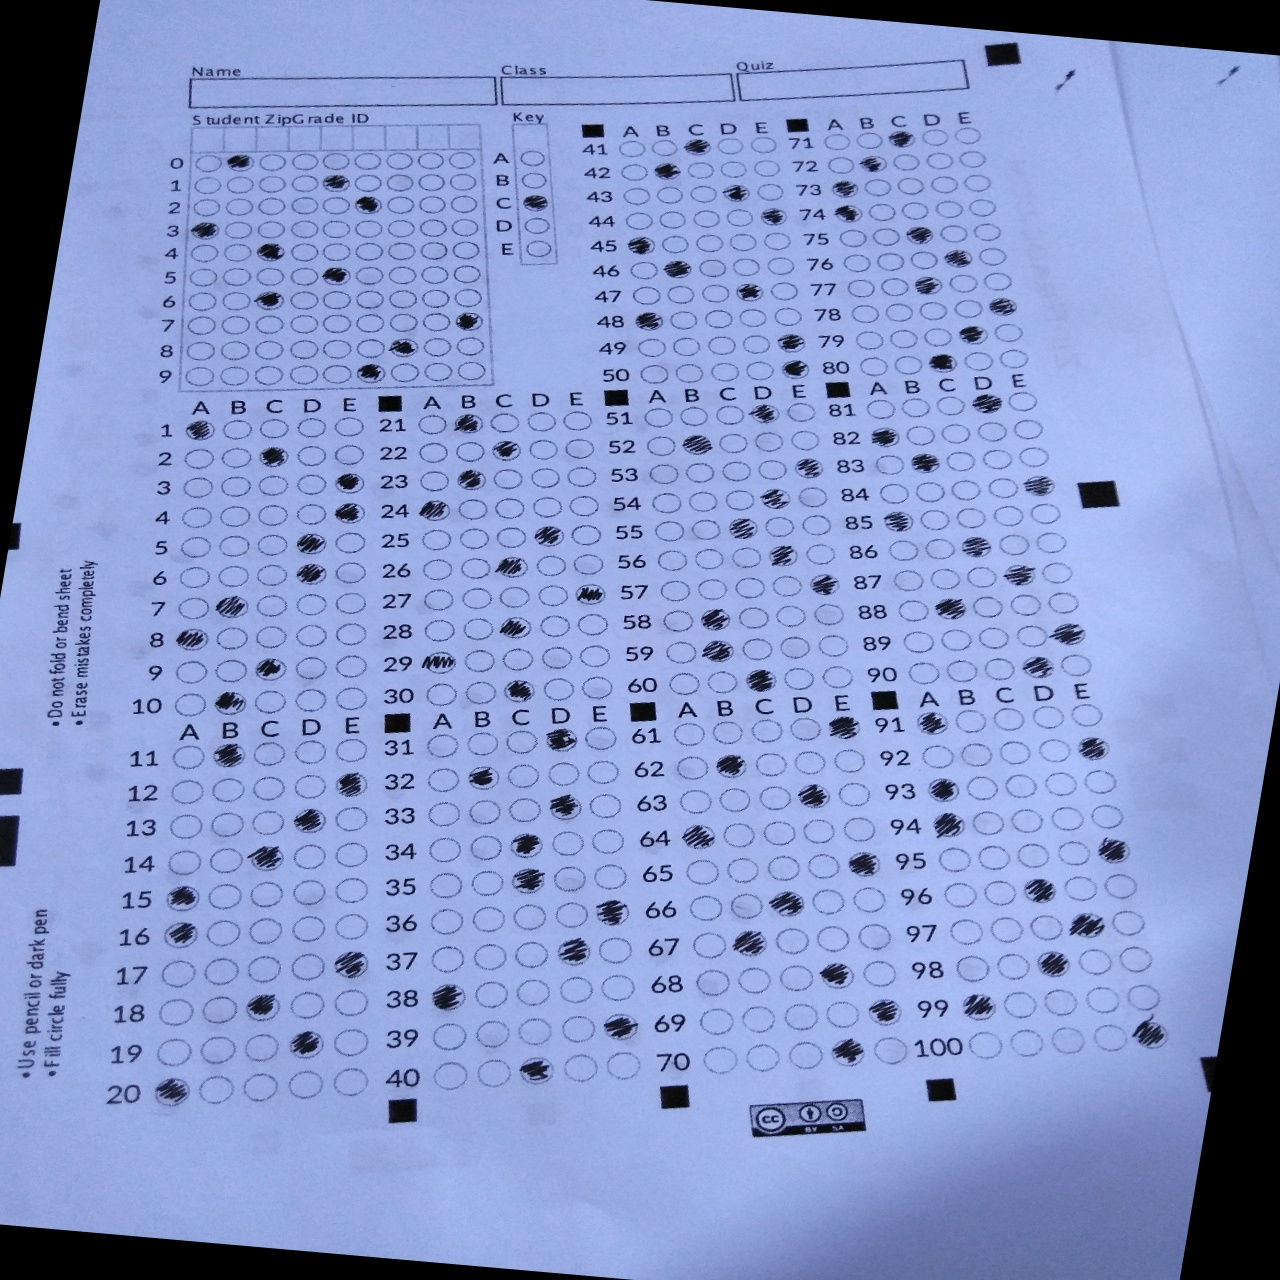not-c: (692, 1003, 740, 1039), (1123, 979, 1171, 1014), (1000, 1024, 1048, 1060), (692, 1042, 740, 1077), (736, 1041, 784, 1076), (821, 995, 867, 1030), (959, 1029, 1006, 1064), (501, 794, 549, 828), (501, 761, 549, 795), (866, 1035, 914, 1069), (1111, 941, 1159, 975), (733, 1001, 781, 1035), (775, 999, 823, 1033), (999, 988, 1047, 1022), (1084, 1021, 1132, 1055), (781, 1039, 828, 1073), (546, 862, 593, 896), (510, 938, 557, 972), (327, 1065, 374, 1099), (284, 949, 331, 983), (326, 1024, 373, 1058), (601, 1048, 648, 1082), (556, 1049, 602, 1083), (556, 1012, 602, 1046), (241, 915, 288, 949), (156, 956, 203, 990), (687, 967, 734, 1001), (951, 952, 998, 986), (1080, 983, 1126, 1017), (1034, 985, 1081, 1019), (1044, 1024, 1091, 1058), (774, 960, 821, 994), (799, 851, 847, 884), (468, 903, 513, 937), (467, 941, 512, 975), (203, 880, 248, 914), (770, 922, 816, 956), (859, 956, 905, 990), (462, 867, 509, 900), (463, 831, 510, 864), (468, 978, 515, 1010), (427, 1019, 474, 1051), (424, 942, 471, 975), (285, 914, 332, 947), (329, 987, 376, 1020), (1073, 947, 1119, 980), (805, 885, 852, 918), (853, 920, 900, 953), (990, 951, 1037, 983), (1064, 699, 1111, 731), (719, 852, 763, 886), (331, 874, 376, 907), (587, 824, 633, 857), (510, 976, 556, 1009), (470, 1017, 516, 1050), (428, 1058, 474, 1091), (199, 992, 245, 1024), (239, 1033, 285, 1065), (195, 1074, 240, 1107), (282, 1069, 328, 1102), (281, 988, 327, 1021), (595, 935, 641, 968), (512, 1015, 558, 1048), (200, 917, 246, 949), (756, 816, 802, 849), (809, 922, 855, 955), (797, 813, 843, 846), (846, 883, 892, 915), (588, 860, 635, 892), (544, 828, 591, 859), (243, 953, 290, 985), (154, 994, 200, 1026), (238, 1073, 285, 1104), (285, 877, 332, 908), (241, 879, 288, 911), (760, 851, 806, 883), (1107, 907, 1153, 939), (1051, 836, 1098, 867), (942, 917, 989, 948), (424, 906, 469, 939), (508, 900, 552, 933), (583, 791, 628, 823), (549, 898, 594, 930), (470, 1057, 516, 1089), (197, 954, 243, 986), (150, 1036, 196, 1068), (196, 1034, 241, 1065), (326, 911, 372, 942), (598, 973, 644, 1005), (552, 973, 598, 1005), (715, 818, 761, 850), (682, 892, 728, 924), (676, 857, 722, 888), (975, 876, 1021, 907), (721, 891, 767, 922), (1058, 872, 1105, 903), (685, 930, 731, 960), (1007, 840, 1054, 871), (1022, 913, 1069, 944), (983, 914, 1030, 945), (972, 844, 1019, 874), (931, 878, 978, 908), (931, 845, 978, 876), (837, 812, 881, 844), (731, 965, 776, 996), (1098, 872, 1144, 903), (689, 967, 735, 998), (1006, 803, 1049, 833), (993, 735, 1036, 765), (1039, 768, 1082, 798), (653, 606, 696, 636), (422, 731, 467, 761), (331, 805, 375, 835), (583, 726, 627, 755), (461, 729, 505, 758), (830, 745, 872, 776), (999, 769, 1041, 799), (1080, 765, 1122, 796), (1087, 801, 1129, 831), (675, 787, 717, 817), (815, 632, 857, 662), (819, 661, 862, 692), (935, 624, 978, 654), (898, 625, 940, 655), (978, 654, 1020, 685), (903, 659, 945, 689), (798, 511, 840, 542), (792, 481, 835, 511), (248, 738, 292, 768), (168, 777, 211, 806), (206, 775, 250, 804), (465, 797, 509, 826), (503, 728, 546, 757), (425, 870, 469, 899), (1027, 702, 1070, 731), (670, 753, 714, 782), (1056, 649, 1099, 679), (163, 812, 207, 840), (542, 761, 586, 789), (753, 783, 794, 813), (787, 715, 828, 745), (967, 808, 1008, 838), (668, 719, 709, 749), (694, 577, 735, 607), (658, 638, 699, 668), (772, 633, 813, 663), (971, 622, 1012, 653), (781, 665, 822, 695), (207, 810, 250, 839), (583, 757, 625, 787), (425, 835, 468, 864), (750, 750, 792, 779), (789, 749, 831, 778), (960, 772, 1002, 802), (917, 743, 959, 772), (833, 779, 876, 809), (956, 740, 999, 769), (949, 707, 992, 736), (712, 785, 754, 815), (692, 576, 734, 605), (806, 601, 849, 631), (654, 576, 696, 605), (737, 634, 779, 663), (1009, 622, 1051, 652), (799, 539, 842, 568), (287, 843, 331, 871), (164, 849, 207, 877), (246, 809, 290, 837), (332, 840, 375, 869), (248, 772, 292, 801), (502, 762, 545, 790), (423, 765, 467, 794), (706, 719, 749, 747), (1035, 736, 1076, 765), (990, 704, 1032, 734), (1047, 803, 1088, 832), (672, 663, 713, 693), (704, 665, 745, 694), (1035, 559, 1076, 588), (728, 572, 769, 601), (288, 771, 331, 799), (424, 802, 467, 830), (747, 719, 789, 747), (206, 847, 250, 874), (455, 554, 496, 583), (942, 658, 983, 686), (1030, 529, 1071, 557), (1041, 588, 1082, 617), (652, 545, 693, 573), (685, 515, 726, 543), (679, 458, 720, 486), (719, 484, 760, 512), (715, 458, 756, 486), (770, 602, 811, 631), (682, 486, 722, 515), (726, 543, 765, 571), (753, 456, 792, 484), (767, 572, 806, 600), (488, 467, 529, 493), (332, 559, 373, 586), (568, 550, 610, 577), (567, 522, 608, 549), (564, 492, 605, 519), (527, 493, 568, 520), (490, 495, 531, 522), (454, 525, 495, 552), (526, 464, 567, 491), (418, 586, 459, 613), (576, 642, 617, 669), (535, 644, 576, 670), (459, 678, 501, 704), (498, 647, 539, 674), (497, 584, 538, 611), (533, 612, 574, 639), (459, 647, 501, 674), (458, 617, 499, 644), (457, 585, 498, 612), (290, 621, 331, 648), (292, 655, 333, 682), (290, 591, 331, 618), (332, 620, 373, 647), (331, 590, 372, 617), (579, 674, 620, 701), (170, 743, 211, 770), (290, 738, 331, 765), (251, 688, 292, 715), (250, 624, 291, 651), (252, 592, 293, 619), (252, 561, 293, 588), (213, 624, 254, 651), (215, 563, 256, 590), (170, 692, 211, 719), (171, 658, 212, 685), (173, 595, 215, 622), (757, 513, 798, 540), (530, 552, 570, 579), (490, 524, 530, 551), (333, 529, 373, 556), (421, 681, 461, 708), (423, 615, 463, 642), (532, 583, 572, 610), (292, 687, 332, 714), (331, 685, 370, 712), (210, 658, 250, 685), (172, 564, 212, 591), (734, 604, 774, 631), (563, 465, 604, 491), (538, 675, 579, 701), (573, 611, 614, 636), (333, 737, 374, 763), (891, 567, 930, 594), (985, 474, 1023, 501), (1027, 501, 1065, 527), (925, 565, 964, 592), (1007, 588, 1046, 615), (931, 392, 969, 418), (333, 653, 373, 679), (640, 433, 678, 459), (947, 476, 985, 503), (651, 518, 688, 545), (921, 535, 959, 561), (750, 428, 788, 455), (939, 420, 976, 447), (973, 418, 1010, 445), (641, 404, 679, 431), (523, 410, 561, 436), (414, 440, 452, 465), (978, 445, 1016, 471), (971, 593, 1007, 620), (414, 410, 451, 436), (420, 557, 457, 583), (912, 481, 949, 506), (896, 597, 933, 622), (874, 481, 912, 506), (873, 451, 911, 477), (964, 563, 1001, 588), (1009, 416, 1047, 442), (783, 400, 821, 425), (940, 448, 978, 474), (903, 422, 940, 448), (675, 406, 713, 431), (917, 506, 955, 531), (692, 545, 727, 572), (525, 437, 561, 463), (649, 490, 686, 516), (995, 532, 1032, 558), (1003, 388, 1040, 414), (787, 428, 823, 454), (710, 403, 747, 429), (561, 437, 599, 462), (452, 440, 490, 464), (456, 496, 493, 520), (417, 469, 455, 493), (645, 462, 682, 486), (953, 505, 990, 530), (899, 395, 937, 420), (864, 397, 901, 422), (713, 431, 750, 456), (331, 413, 366, 438), (182, 445, 217, 471), (1017, 443, 1053, 469), (218, 474, 254, 498), (561, 408, 598, 433), (486, 411, 523, 436), (886, 538, 922, 563), (990, 503, 1027, 527), (293, 503, 329, 527), (219, 445, 254, 470), (333, 443, 368, 468), (293, 444, 329, 468), (256, 533, 292, 557), (216, 504, 252, 527), (417, 527, 454, 551), (293, 474, 329, 497), (252, 338, 286, 362), (181, 505, 215, 530), (251, 314, 286, 338), (294, 416, 329, 440), (254, 474, 290, 497), (217, 533, 252, 557), (178, 536, 213, 559), (770, 305, 805, 328), (700, 307, 735, 331), (918, 128, 953, 151), (382, 149, 416, 172), (516, 169, 550, 192), (354, 311, 388, 334), (416, 239, 450, 263), (415, 171, 449, 195), (449, 239, 483, 263), (183, 365, 217, 388), (183, 339, 217, 362), (185, 290, 219, 313), (188, 243, 222, 266), (254, 265, 288, 288), (287, 195, 321, 218), (254, 195, 288, 218), (218, 339, 252, 362), (219, 265, 253, 288), (251, 362, 285, 386), (256, 503, 290, 526), (181, 476, 215, 499), (790, 170, 824, 193), (760, 229, 794, 252), (745, 134, 779, 157), (665, 282, 699, 306), (697, 282, 731, 306), (689, 207, 723, 231), (688, 182, 722, 205), (743, 359, 777, 382), (735, 306, 769, 329), (951, 125, 985, 149), (847, 302, 881, 326), (622, 210, 656, 233), (995, 347, 1029, 370), (893, 173, 927, 197), (931, 197, 965, 220), (920, 148, 954, 171), (975, 245, 1009, 268), (966, 196, 1000, 219), (955, 147, 989, 170), (874, 248, 908, 272), (859, 176, 893, 199), (915, 299, 949, 322), (417, 217, 452, 239), (387, 360, 422, 382), (218, 240, 253, 263), (319, 338, 354, 360), (726, 231, 761, 253), (856, 354, 891, 376), (852, 131, 887, 154), (448, 171, 481, 195), (448, 217, 481, 240), (185, 314, 218, 338), (256, 173, 288, 197), (219, 313, 252, 336), (287, 338, 320, 361), (287, 266, 320, 290), (712, 135, 744, 158), (897, 198, 930, 222), (952, 297, 985, 320), (883, 300, 915, 324), (256, 151, 290, 173), (287, 152, 321, 175), (350, 150, 384, 172), (414, 151, 448, 173), (522, 238, 556, 260), (516, 147, 550, 169), (445, 149, 479, 171), (421, 361, 455, 383), (352, 287, 386, 309), (354, 264, 388, 286), (350, 172, 384, 195), (350, 218, 384, 240), (387, 312, 421, 334), (384, 265, 418, 287), (384, 240, 418, 263), (383, 195, 417, 217), (384, 217, 418, 239), (452, 335, 486, 358), (418, 312, 452, 334), (416, 263, 450, 285), (414, 195, 448, 217), (451, 287, 485, 309), (451, 263, 485, 285), (318, 218, 352, 240), (319, 195, 353, 217), (222, 219, 256, 241), (188, 267, 222, 290), (188, 197, 222, 219), (192, 175, 226, 197), (253, 219, 287, 241), (219, 290, 253, 312), (286, 363, 320, 386), (320, 362, 354, 384), (319, 313, 353, 335), (286, 290, 320, 312), (220, 418, 254, 441), (716, 157, 750, 179), (768, 280, 802, 302), (668, 335, 702, 358), (704, 335, 738, 358), (695, 257, 729, 279), (685, 159, 719, 182), (738, 331, 772, 353), (728, 256, 762, 278), (724, 206, 758, 229), (844, 278, 878, 300), (836, 227, 870, 250), (819, 131, 853, 154), (635, 338, 669, 360), (629, 284, 663, 306), (627, 259, 661, 281), (618, 185, 652, 207), (618, 159, 652, 182), (958, 349, 992, 372), (908, 247, 942, 270), (937, 222, 971, 244), (927, 173, 961, 196), (990, 321, 1024, 343), (980, 270, 1014, 292), (960, 171, 994, 193), (887, 327, 921, 349), (865, 200, 899, 223), (922, 326, 956, 348), (382, 172, 416, 195), (319, 241, 354, 263), (257, 418, 292, 440), (638, 365, 673, 386), (520, 216, 553, 238), (421, 335, 454, 358), (454, 360, 486, 382), (448, 193, 481, 216), (223, 198, 256, 220), (290, 173, 322, 196), (290, 241, 322, 264), (286, 218, 319, 240), (749, 156, 782, 178), (673, 362, 706, 384), (655, 209, 688, 231), (652, 185, 685, 207), (708, 360, 741, 382), (840, 253, 873, 275), (826, 154, 859, 176), (892, 354, 925, 376), (947, 272, 980, 294), (870, 225, 903, 247), (190, 154, 224, 175), (318, 152, 352, 173), (384, 288, 418, 309), (418, 288, 452, 309), (224, 173, 258, 195), (216, 365, 250, 386), (615, 138, 649, 159), (753, 181, 787, 202), (661, 234, 695, 256), (647, 138, 681, 159), (692, 234, 726, 256), (852, 329, 886, 350), (890, 152, 924, 173), (879, 275, 913, 297), (354, 336, 387, 358), (354, 241, 387, 263), (321, 288, 354, 309), (765, 256, 798, 277), (668, 309, 701, 331), (971, 222, 1003, 243)
taken-c: (238, 990, 285, 1024), (842, 847, 888, 881), (1016, 874, 1063, 908), (1064, 908, 1111, 942), (917, 772, 964, 806), (924, 806, 971, 840), (824, 712, 871, 745), (1092, 835, 1139, 869), (151, 1075, 197, 1109), (1129, 1017, 1175, 1051), (1073, 731, 1118, 765), (284, 1029, 331, 1062), (764, 888, 811, 921), (816, 959, 863, 992), (1030, 949, 1077, 982), (954, 990, 1001, 1023), (907, 707, 954, 740), (588, 897, 636, 928), (515, 1054, 560, 1087), (824, 1036, 870, 1069), (331, 770, 377, 802), (597, 1013, 644, 1044), (157, 918, 204, 949), (159, 883, 206, 914), (864, 995, 908, 1028), (792, 779, 837, 812), (245, 843, 291, 874), (1015, 653, 1061, 685), (551, 937, 598, 967), (508, 866, 554, 897), (287, 806, 334, 837), (425, 981, 471, 1012), (331, 949, 376, 980), (728, 928, 772, 959), (506, 830, 549, 862), (1048, 619, 1091, 649), (544, 792, 588, 822), (930, 594, 974, 624), (904, 447, 946, 477), (956, 532, 998, 561), (1020, 471, 1062, 499), (1000, 560, 1040, 590), (542, 727, 583, 755), (418, 649, 459, 678), (211, 689, 252, 717), (170, 625, 211, 653), (803, 570, 844, 598), (496, 614, 536, 642), (501, 676, 540, 704), (251, 655, 292, 682), (712, 753, 753, 779), (462, 765, 503, 792), (985, 293, 1023, 321), (679, 823, 719, 850), (742, 666, 782, 693), (209, 742, 248, 769), (878, 508, 918, 535), (922, 350, 962, 377), (292, 561, 331, 588), (697, 636, 736, 663), (968, 392, 1007, 418), (213, 594, 252, 620), (530, 523, 568, 549), (332, 501, 370, 526), (331, 470, 369, 496), (953, 322, 992, 348), (452, 467, 490, 492), (572, 581, 610, 607), (696, 606, 734, 632), (757, 486, 796, 511), (182, 417, 220, 442), (828, 200, 866, 225), (294, 531, 331, 557), (765, 543, 802, 568), (726, 516, 762, 542), (866, 425, 903, 451), (450, 411, 488, 436), (495, 554, 532, 579), (903, 224, 940, 248), (939, 246, 975, 271), (910, 272, 946, 297), (488, 440, 525, 463), (679, 433, 716, 456), (256, 445, 293, 469), (825, 177, 863, 200), (354, 361, 390, 384), (774, 331, 810, 354), (733, 281, 769, 305), (416, 498, 452, 522), (856, 152, 892, 176), (886, 127, 919, 152), (792, 456, 828, 479), (745, 402, 781, 425), (779, 358, 815, 381), (632, 309, 666, 333), (516, 191, 550, 215), (717, 182, 753, 204), (352, 195, 387, 217), (757, 205, 790, 229), (222, 151, 256, 173), (661, 258, 695, 280), (651, 159, 685, 182), (452, 309, 486, 332), (319, 264, 353, 286), (188, 219, 222, 241), (254, 241, 288, 264), (318, 171, 352, 193), (387, 336, 422, 358), (681, 136, 714, 158), (624, 234, 658, 256), (252, 290, 285, 311)
